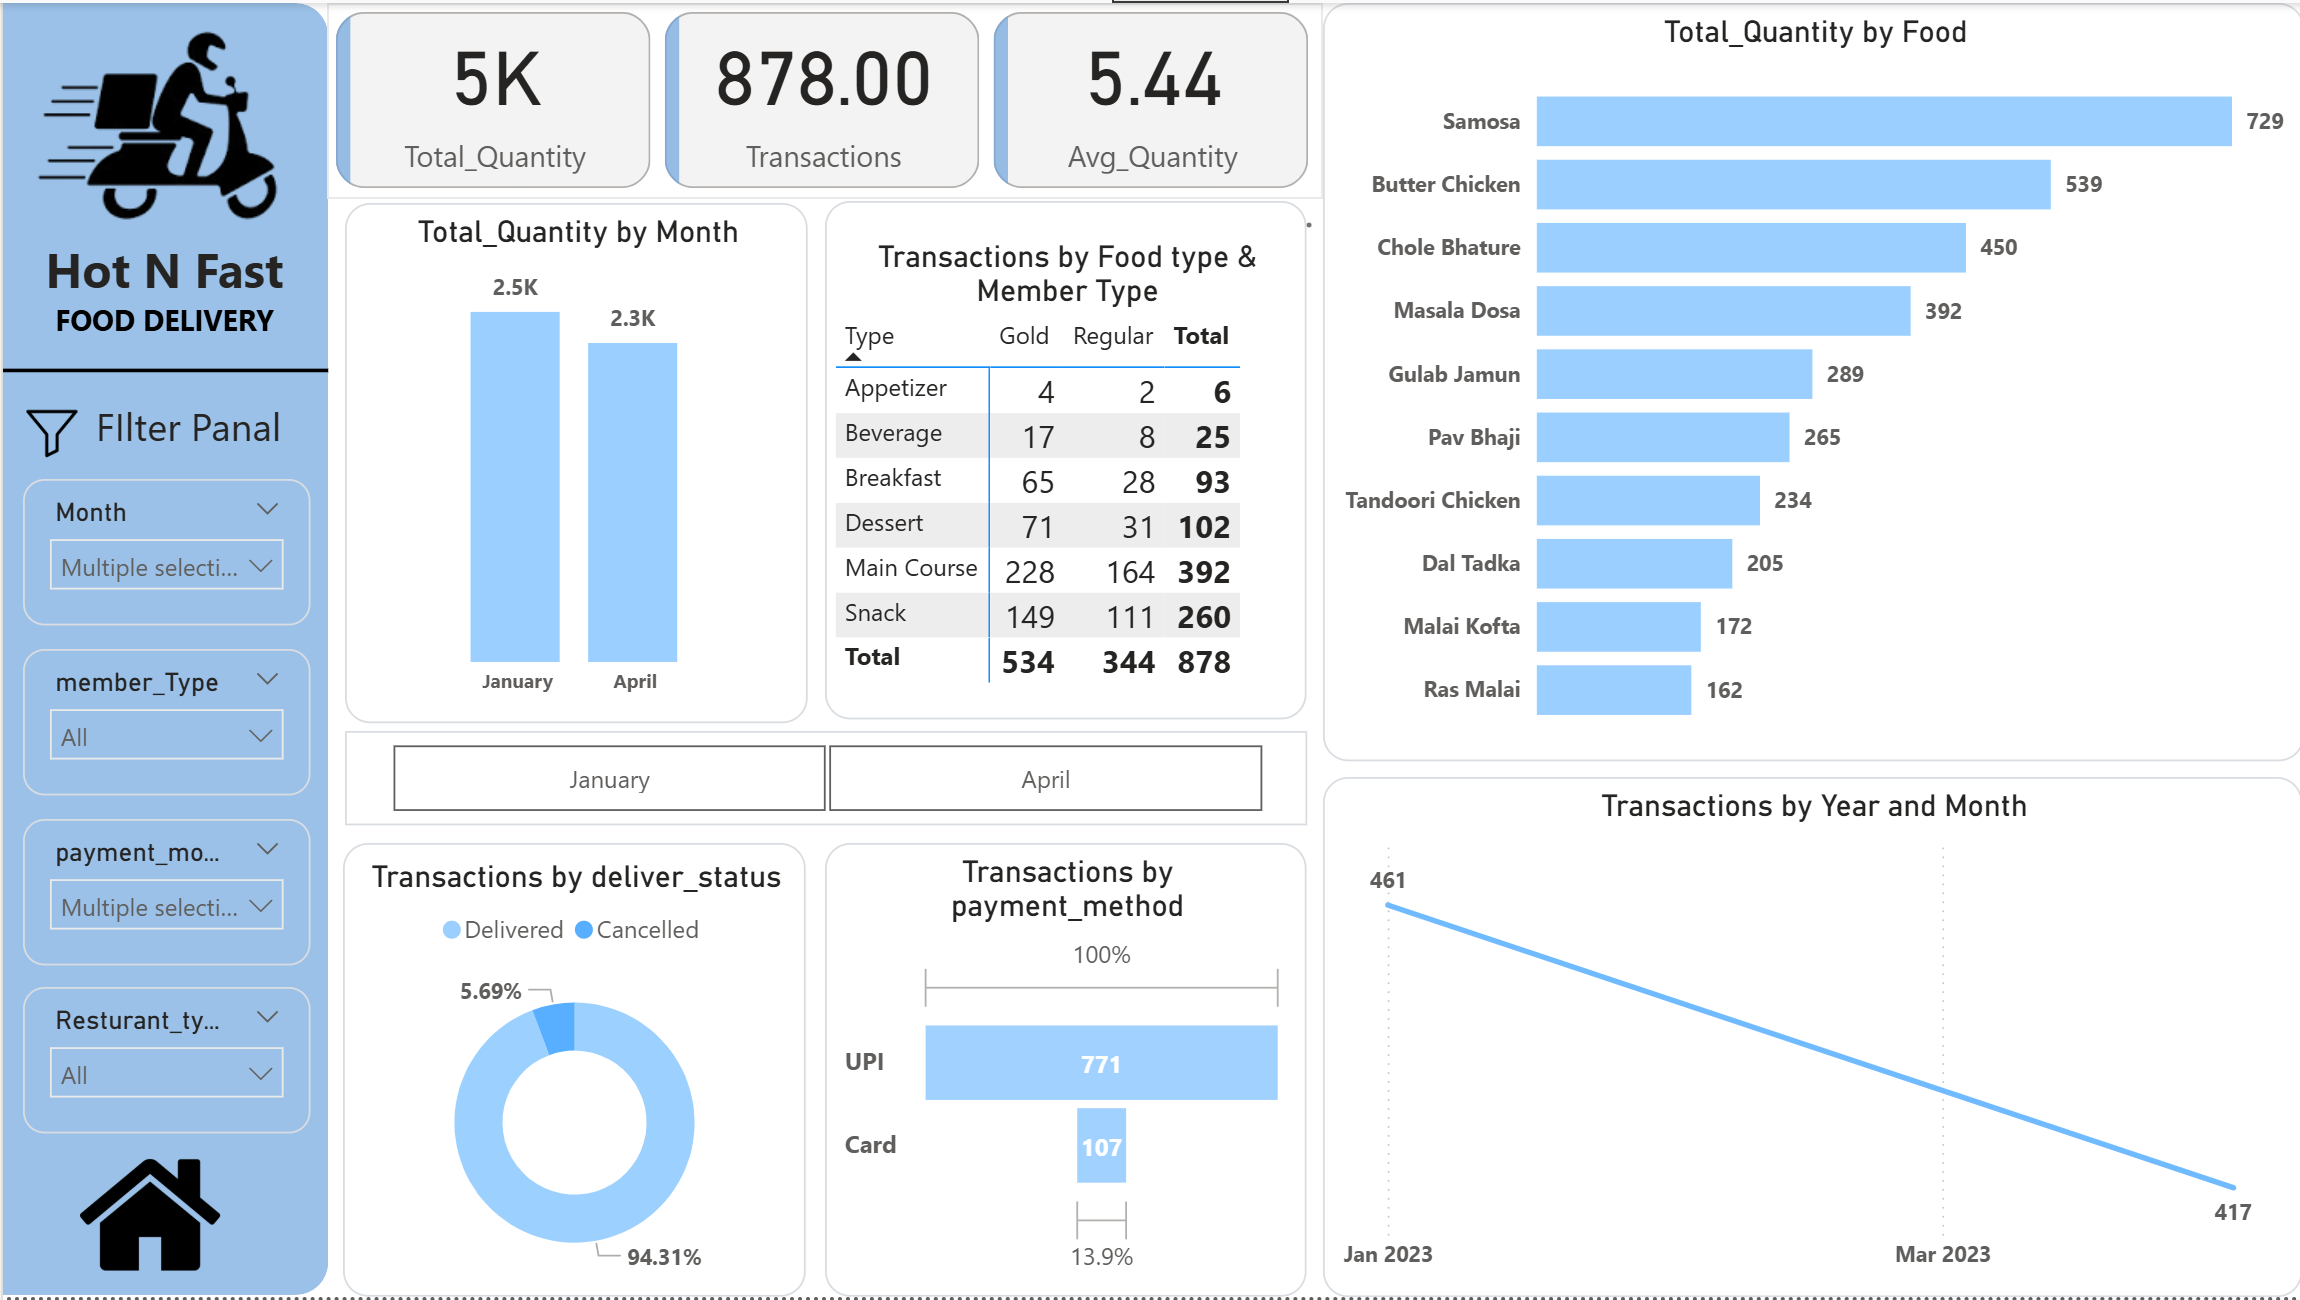

Layout of this report page (visuals, bound fields, positions):
{"tool":"powerbi","page":{"name":"Page 1","canvas":[1280,720],"ordinal":0},"visuals":[{"type":"shape","box":[0,0,181,719],"z":0},{"type":"textbox","box":[8.9,124.9,161.9,88],"z":1000},{"type":"shape","box":[0,197.6,181,12.7],"z":2000},{"type":"cardVisual","fields":{"Data":["Sales Data.Total_Quantity","Sales Data.Transactions","Sales Data.Avg_Quantity"]},"box":[180.8,0,553.8,109],"z":3000},{"type":"clusteredColumnChart","fields":{"Y":["Sales Data.Total_Quantity"],"Category":["Sales Data.orderDate.Variation.Date Hierarchy.Month"]},"box":[190,110.9,257.5,289.4],"z":4000},{"type":"pivotTable","title":"Transactions by Food type & Member Type","fields":{"Rows":["Food_Details.Type"],"Columns":["Customer Details.member_Type"],"Values":["Sales Data.Transactions"]},"box":[457.7,110.3,267.9,288.5],"z":5000},{"type":"donutChart","fields":{"Category":["Sales Data.deliver_status"],"Y":["Sales Data.Transactions"]},"box":[189.7,467.9,257.7,252.6],"z":6000},{"type":"funnel","fields":{"Category":["Sales Data.payment_method"],"Y":["Sales Data.Transactions"]},"box":[457.7,467.9,267.9,252.6],"z":7000},{"type":"clusteredBarChart","fields":{"Y":["Sales Data.Total_Quantity"],"Category":["Food_Details.Food"]},"box":[734.6,0,546.2,421.8],"z":8000},{"type":"lineChart","fields":{"Y":["Sales Data.Transactions"],"Category":["Sales Data.orderDate.Variation.Date Hierarchy.Year","Sales Data.orderDate.Variation.Date Hierarchy.Month"]},"box":[734.6,430.8,544.9,289.7],"z":9000},{"type":"slicer","fields":{"Values":["Sales Data.orderDate.Variation.Date Hierarchy.Month"]},"box":[10.7,265.3,160,81.3],"z":10000},{"type":"slicer","fields":{"Values":["Customer Details.member_Type"]},"box":[10.7,360,160,81.3],"z":11000},{"type":"slicer","fields":{"Values":["Sales Data.payment_method"]},"box":[10.7,454.7,160,81.3],"z":12000},{"type":"slicer","fields":{"Values":["Resturant_Details.Resturant_type"]},"box":[10.7,548,160,81.3],"z":13000},{"type":"slicer","fields":{"Values":["Sales Data.orderDate.Variation.Date Hierarchy.Month"]},"box":[190,405.4,535.5,52.3],"z":14000},{"type":"image","box":[0,220,54.7,38.7],"z":15000},{"type":"image","box":[37.3,629.3,88,90.7],"z":16000},{"type":"textbox","box":[46.7,216,134.7,42.7],"z":17000},{"type":"image","box":[0,0,172.1,136.4],"z":18000}]}

Visuals, with their boxes in screenshot pixels (x1, y1, x2, y2), scaled from the page's 1280x720 canvas onto the 2300x1300 screenshot:
shape: {"x1": 0, "y1": 0, "x2": 325, "y2": 1298}
textbox: {"x1": 16, "y1": 226, "x2": 307, "y2": 384}
shape: {"x1": 0, "y1": 357, "x2": 325, "y2": 380}
cardVisual - Sales Data.Total_Quantity x Sales Data.Transactions: {"x1": 325, "y1": 0, "x2": 1320, "y2": 197}
clusteredColumnChart - Sales Data.Total_Quantity x Sales Data.orderDate.Variation.Date Hierarchy.Month: {"x1": 341, "y1": 200, "x2": 804, "y2": 723}
"Transactions by Food type & Member Type" pivotTable: {"x1": 822, "y1": 199, "x2": 1304, "y2": 720}
donutChart - Sales Data.deliver_status x Sales Data.Transactions: {"x1": 341, "y1": 845, "x2": 804, "y2": 1299}
funnel - Sales Data.payment_method x Sales Data.Transactions: {"x1": 822, "y1": 845, "x2": 1304, "y2": 1299}
clusteredBarChart - Sales Data.Total_Quantity x Food_Details.Food: {"x1": 1320, "y1": 0, "x2": 2299, "y2": 762}
lineChart - Sales Data.Transactions x Sales Data.orderDate.Variation.Date Hierarchy.Year: {"x1": 1320, "y1": 778, "x2": 2299, "y2": 1299}
slicer - Sales Data.orderDate.Variation.Date Hierarchy.Month: {"x1": 19, "y1": 479, "x2": 307, "y2": 626}
slicer - Customer Details.member_Type: {"x1": 19, "y1": 650, "x2": 307, "y2": 797}
slicer - Sales Data.payment_method: {"x1": 19, "y1": 821, "x2": 307, "y2": 968}
slicer - Resturant_Details.Resturant_type: {"x1": 19, "y1": 989, "x2": 307, "y2": 1136}
slicer - Sales Data.orderDate.Variation.Date Hierarchy.Month: {"x1": 341, "y1": 732, "x2": 1304, "y2": 826}
image: {"x1": 0, "y1": 397, "x2": 98, "y2": 467}
image: {"x1": 67, "y1": 1136, "x2": 225, "y2": 1299}
textbox: {"x1": 84, "y1": 390, "x2": 326, "y2": 467}
image: {"x1": 0, "y1": 0, "x2": 309, "y2": 246}
